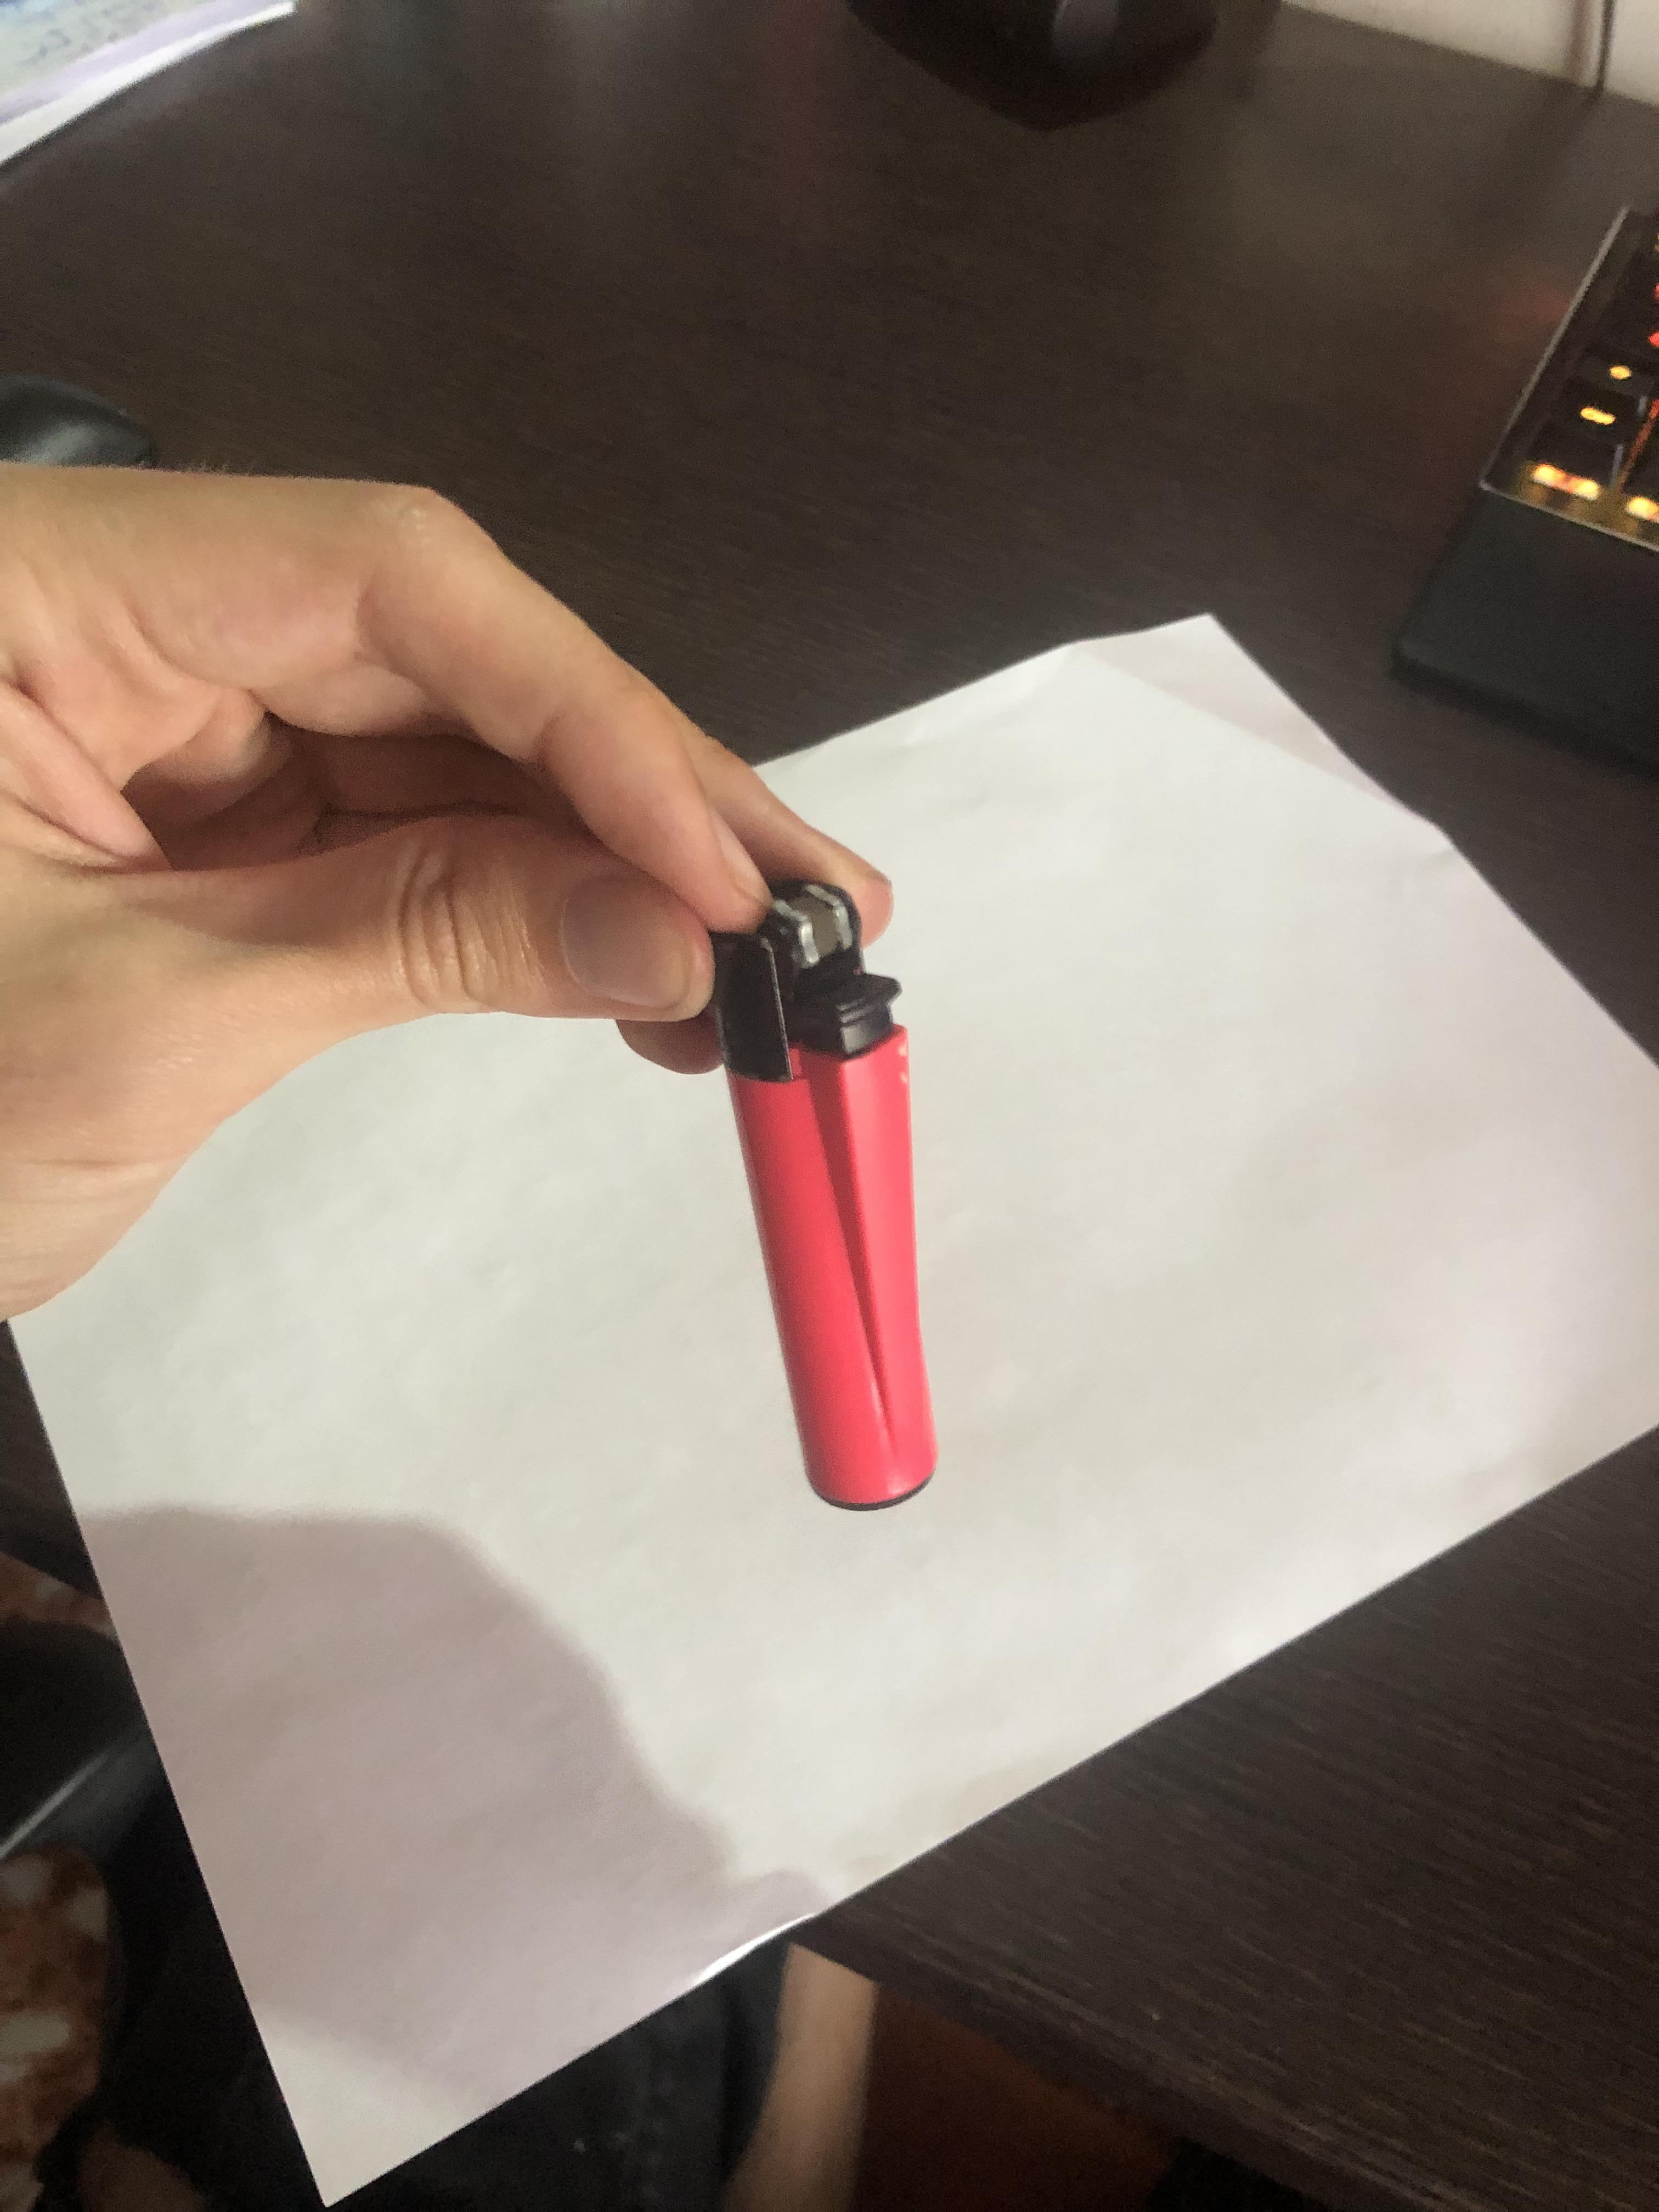Mechero: (699, 888, 985, 1533)
